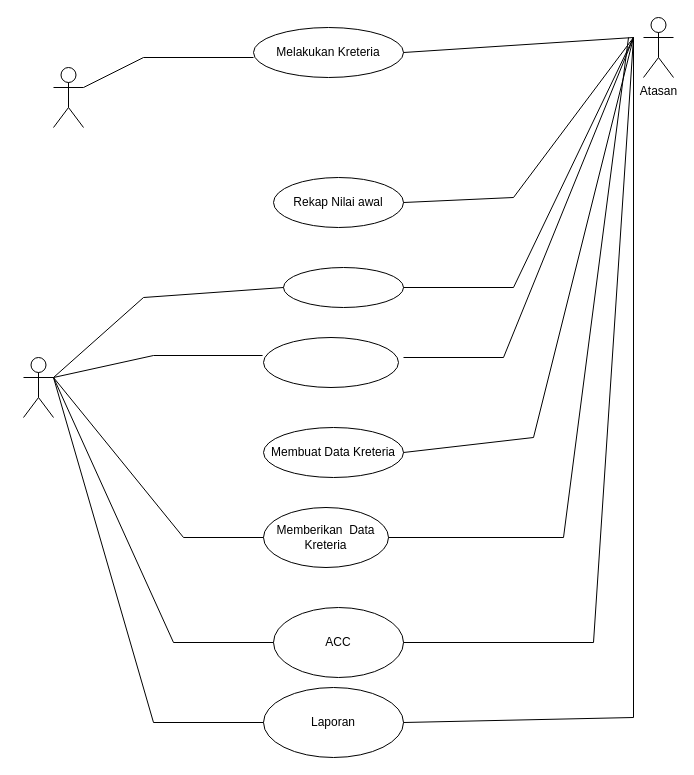
Image size: 694x775. Some labels were removed from this diagram. Here are the shapes that lost their labels. From the top down, the box of each, then its label:
(52, 66, 84, 128): Pegawai
(282, 266, 404, 308): Memberikan Nilai Awal
(262, 336, 398, 388): Penilaian Kinerja Pegawai
(22, 356, 54, 418): Manajer
